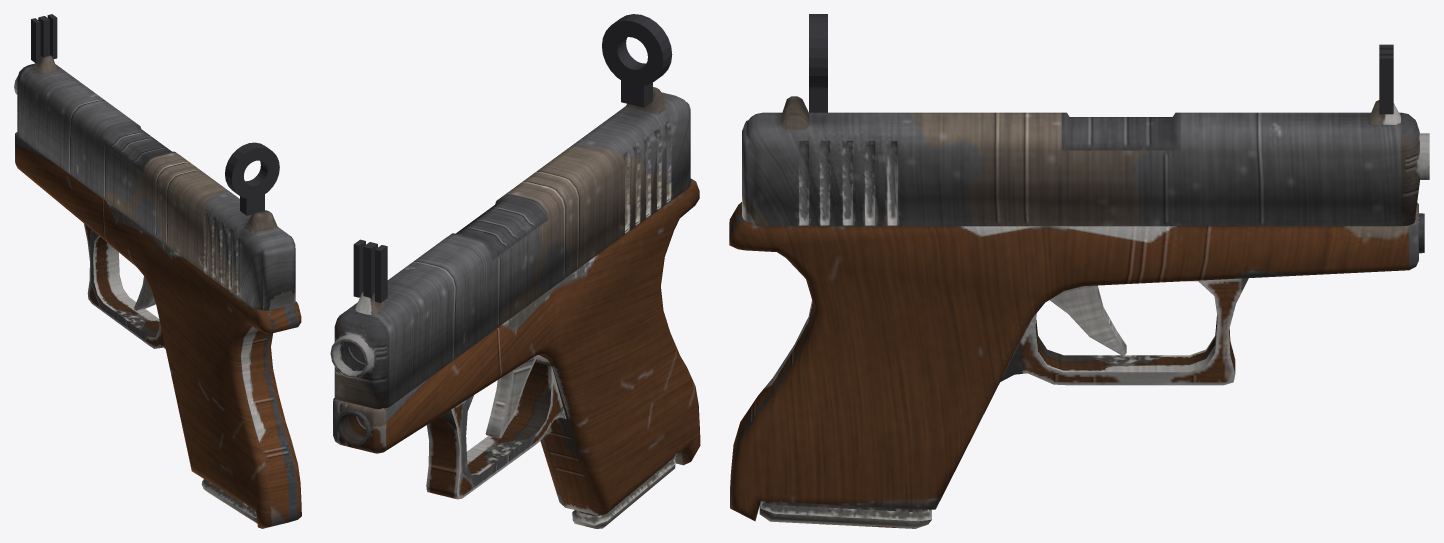
File: pistol.glb
3 views of the same model, side by side, from view 1: azimuth 30°, elevation 25°; view 2: azimuth 150°, elevation 25°; view 3: azimuth 270°, elevation 25° (orthographic). The views are drawn at different scales.
Parts seen in each view (by area): view 1: pew, pewhaut, rear_ring, pewmagazine, rear_stem, front_ear-1, front_post, pewtrigger, front_ear1; view 2: pew, pewhaut, rear_ring, pewtrigger, pewmagazine, rear_stem, front_ear-1, front_post, front_ear1; view 3: pew, pewhaut, pewmagazine, pewtrigger, rear_ring, front_ear1.
Boxes of the visible parts, x1,y1,x2,y2 form: pew: [15, 132, 301, 528]; pewhaut: [14, 55, 295, 310]; rear_ring: [225, 142, 279, 198]; pewmagazine: [201, 479, 257, 523]; rear_stem: [240, 191, 264, 215]; front_ear-1: [31, 18, 40, 63]; front_post: [38, 16, 49, 57]; pewtrigger: [134, 276, 155, 310]; front_ear1: [47, 14, 57, 59]; pew: [333, 178, 700, 515]; pewhaut: [330, 87, 690, 408]; rear_ring: [602, 14, 672, 85]; pewtrigger: [485, 356, 536, 438]; pewmagazine: [572, 456, 675, 528]; rear_stem: [621, 76, 652, 107]; front_ear-1: [375, 245, 387, 302]; front_post: [363, 242, 377, 299]; front_ear1: [353, 239, 365, 297]; pew: [729, 202, 1424, 521]; pewhaut: [742, 96, 1429, 226]; pewmagazine: [759, 501, 931, 528]; pewtrigger: [1049, 285, 1126, 355]; rear_ring: [809, 14, 827, 89]; front_ear1: [1379, 55, 1393, 114].
Size of the model in its own units: 0.02 by 0.1474 by 0.185.
Materials: 2 (1 with a texture image).
